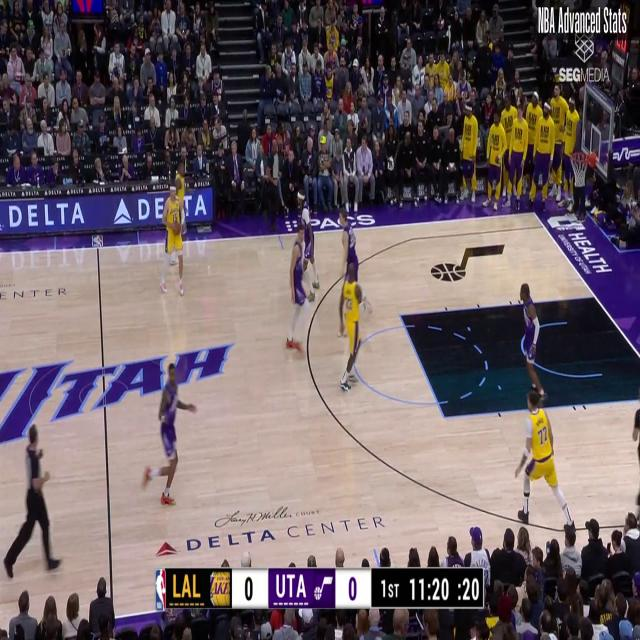ball: (172, 218, 182, 237)
judge: (3, 423, 64, 576)
player: (140, 360, 198, 508), (512, 398, 574, 529), (336, 208, 374, 338), (286, 221, 314, 353), (338, 261, 367, 388), (160, 182, 187, 297), (518, 282, 544, 396), (294, 189, 322, 292)
